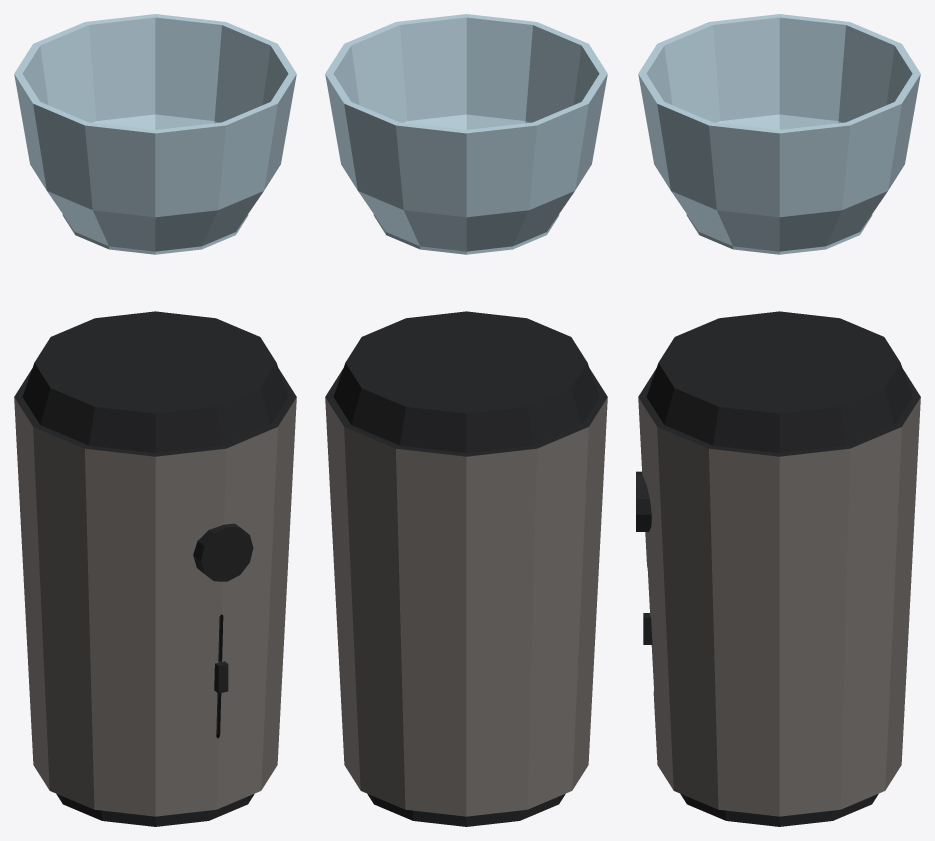
The model's file is coffeegrinders_01_A.gltf.
3 renders of one model, left to right at view 1: azimuth 30°, elevation 25°; view 2: azimuth 150°, elevation 25°; view 3: azimuth 270°, elevation 25°, orthographic.
Visible parts, largest first — view 1: coffeegrinders_01_A, Glassforcoffeegrinders_01_A, Switchforcoffeegrinders_02_A; view 2: coffeegrinders_01_A, Glassforcoffeegrinders_01_A; view 3: coffeegrinders_01_A, Glassforcoffeegrinders_01_A, Switchforcoffeegrinders_02_A.
Boxes of the visible parts, x1,y1,x2,y2 form: coffeegrinders_01_A: [14, 311, 296, 826]; Glassforcoffeegrinders_01_A: [14, 14, 296, 254]; Switchforcoffeegrinders_02_A: [193, 523, 253, 581]; coffeegrinders_01_A: [325, 311, 607, 826]; Glassforcoffeegrinders_01_A: [325, 14, 607, 254]; coffeegrinders_01_A: [638, 311, 920, 826]; Glassforcoffeegrinders_01_A: [638, 14, 920, 254]; Switchforcoffeegrinders_02_A: [636, 471, 651, 531].
Size of the model in its own units: 0.1444 by 0.3991 by 0.1455.
1 material, 1 textured.
